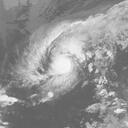cyclone: (15, 20, 88, 87)
